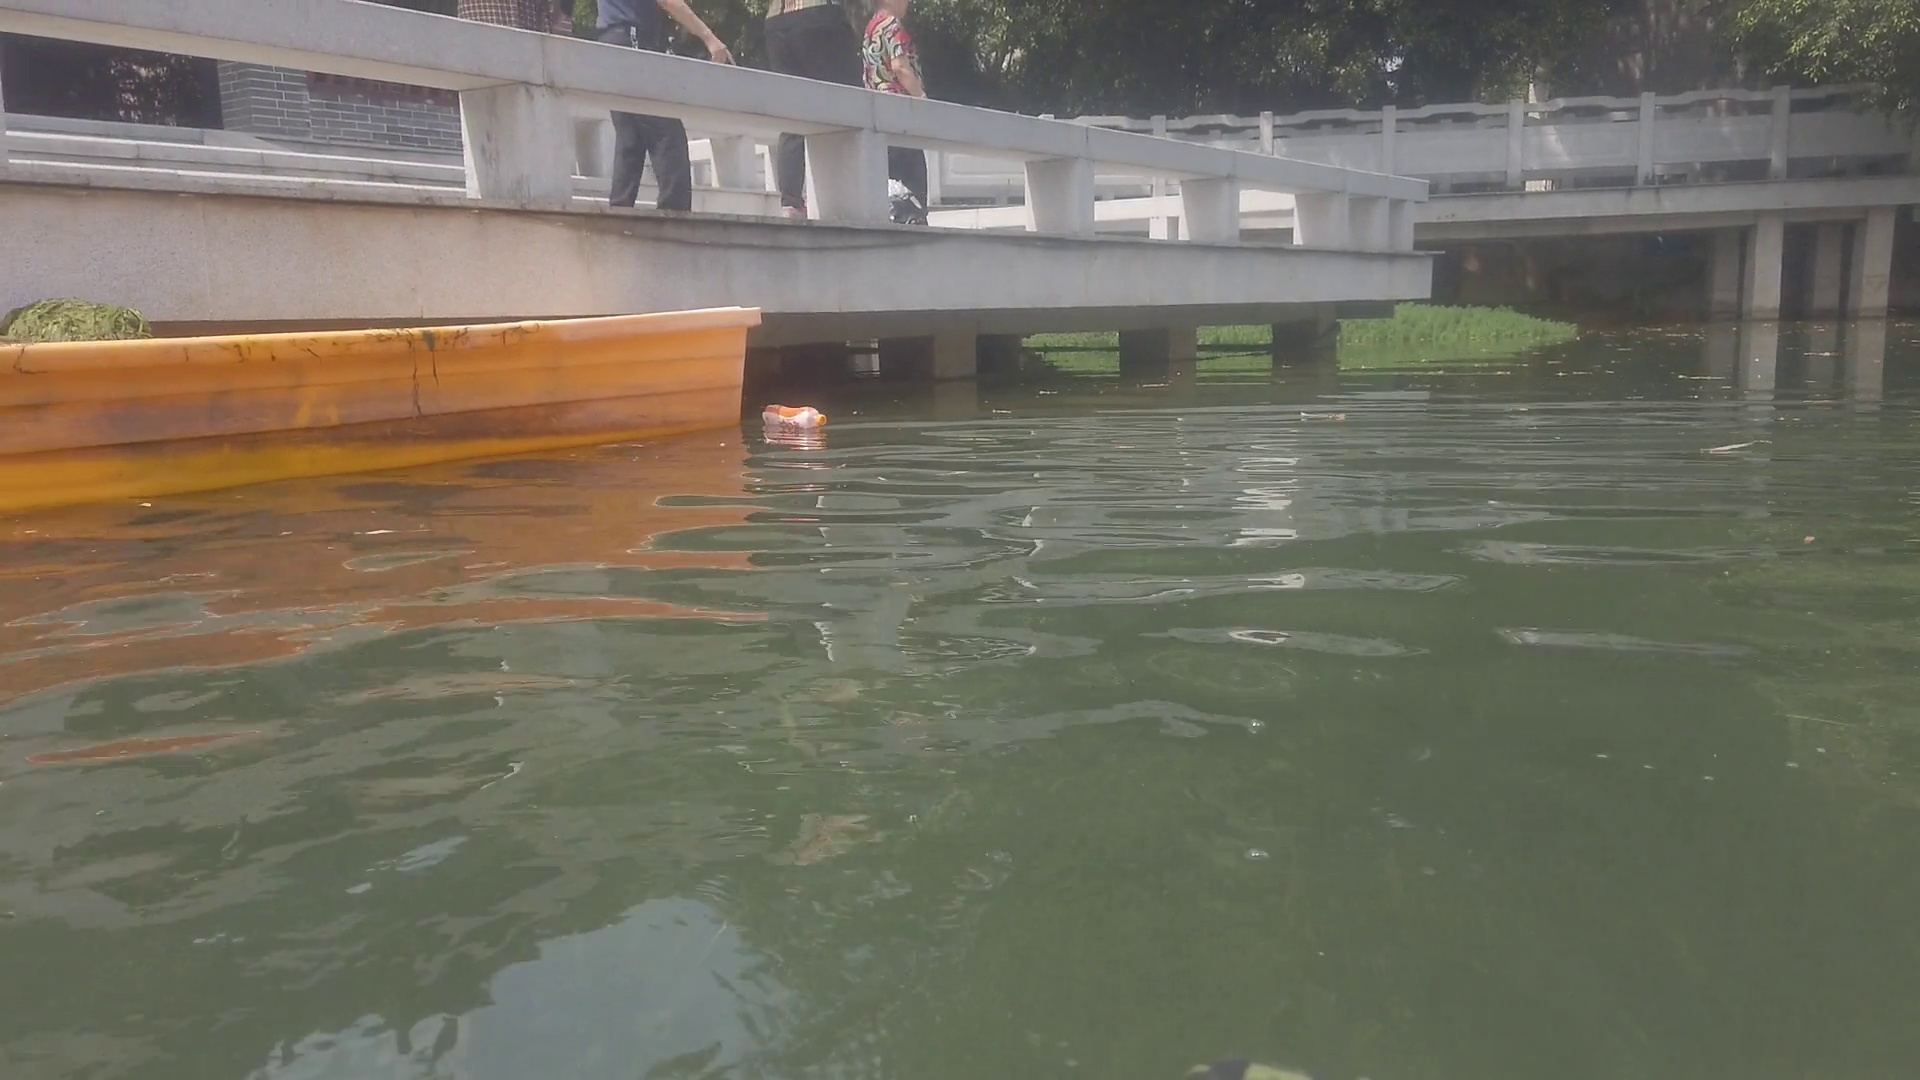bottle: (762, 404, 827, 426)
